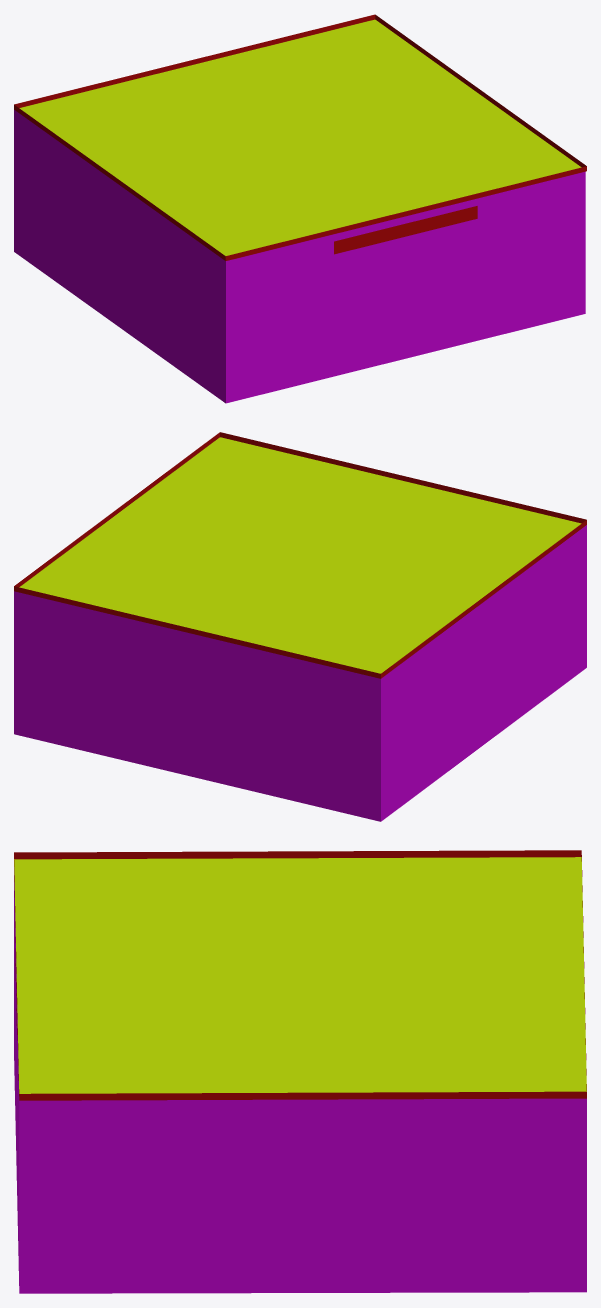
Rendered from bgj_102.glb.
3 renders of one model, top to bottom at view 1: azimuth 30°, elevation 25°; view 2: azimuth 150°, elevation 25°; view 3: azimuth 270°, elevation 25°, orthographic. The views are drawn at different scales.
Parts seen in each view (by area): view 1: bgj_102; view 2: bgj_102; view 3: bgj_102.
Boxes of the visible parts, x1,y1,x2,y2 form: bgj_102: [14, 14, 586, 403]; bgj_102: [14, 432, 586, 821]; bgj_102: [14, 850, 586, 1293].
Size of the model in its own units: 26.64 by 10.23 by 26.48.
